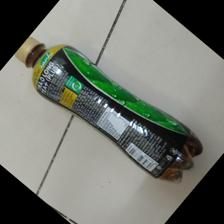Olong: (11, 33, 205, 184)
